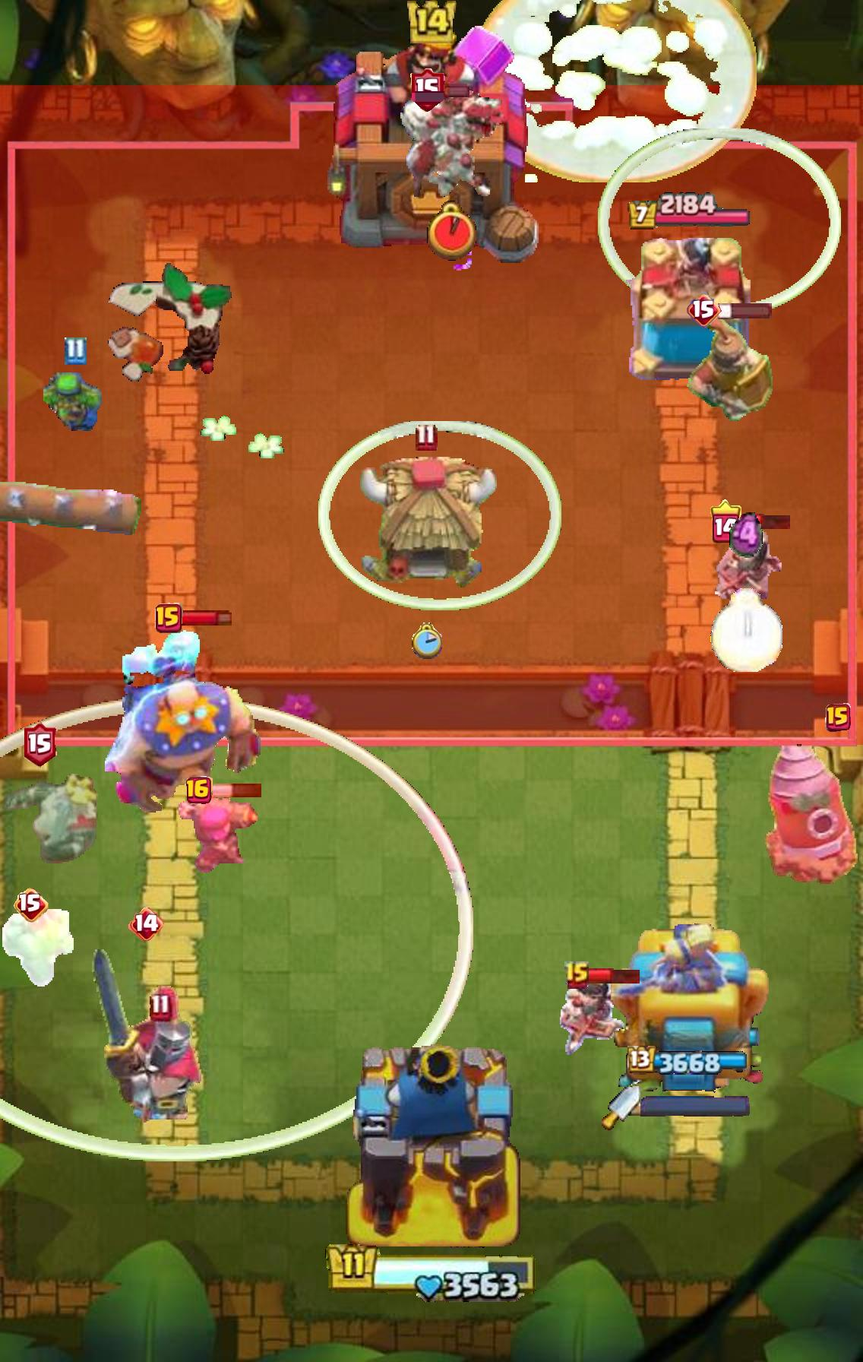bar: (179, 608, 232, 628), (718, 301, 773, 319), (738, 513, 792, 530), (587, 968, 642, 984), (209, 783, 262, 798), (441, 83, 470, 98)
bar-level: (410, 68, 445, 112), (24, 722, 57, 768), (711, 499, 742, 543), (687, 293, 722, 328), (14, 888, 49, 923), (128, 907, 164, 941), (155, 603, 183, 633), (564, 961, 591, 991), (825, 703, 851, 732), (186, 776, 212, 805), (415, 423, 438, 451)
